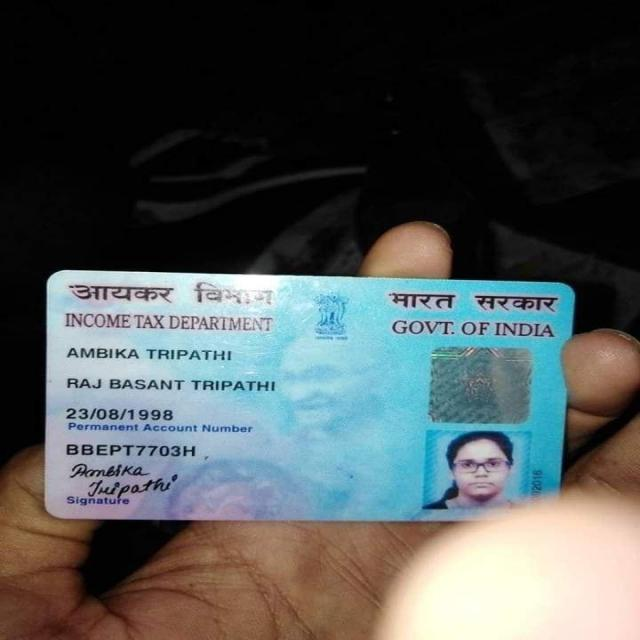pan_card: (43, 270, 575, 527)
